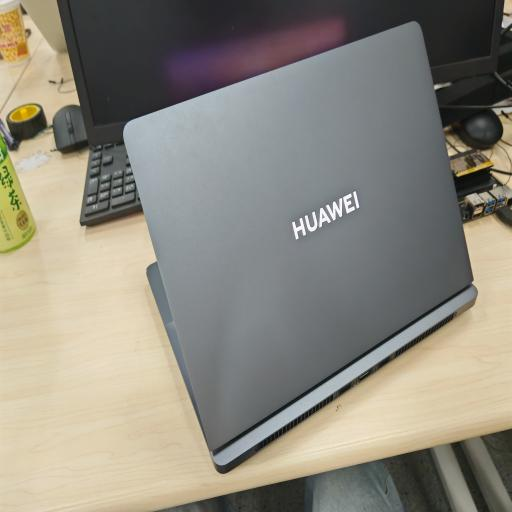laptop: (124, 22, 477, 472), (147, 90, 151, 94)
mouse: (453, 109, 503, 149), (53, 104, 88, 152)
